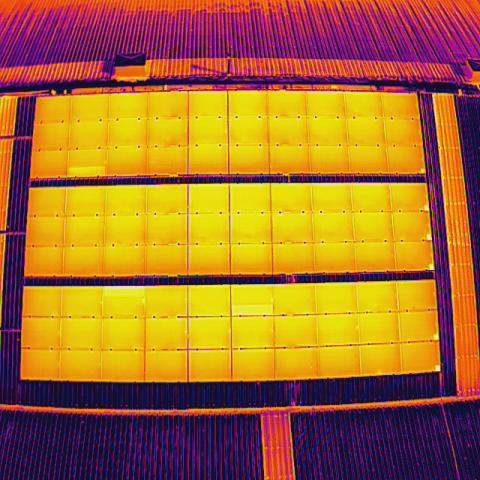fault: (433, 333, 441, 343), (426, 232, 434, 242), (428, 262, 436, 271), (434, 364, 442, 372), (423, 204, 430, 213), (420, 167, 427, 175)
